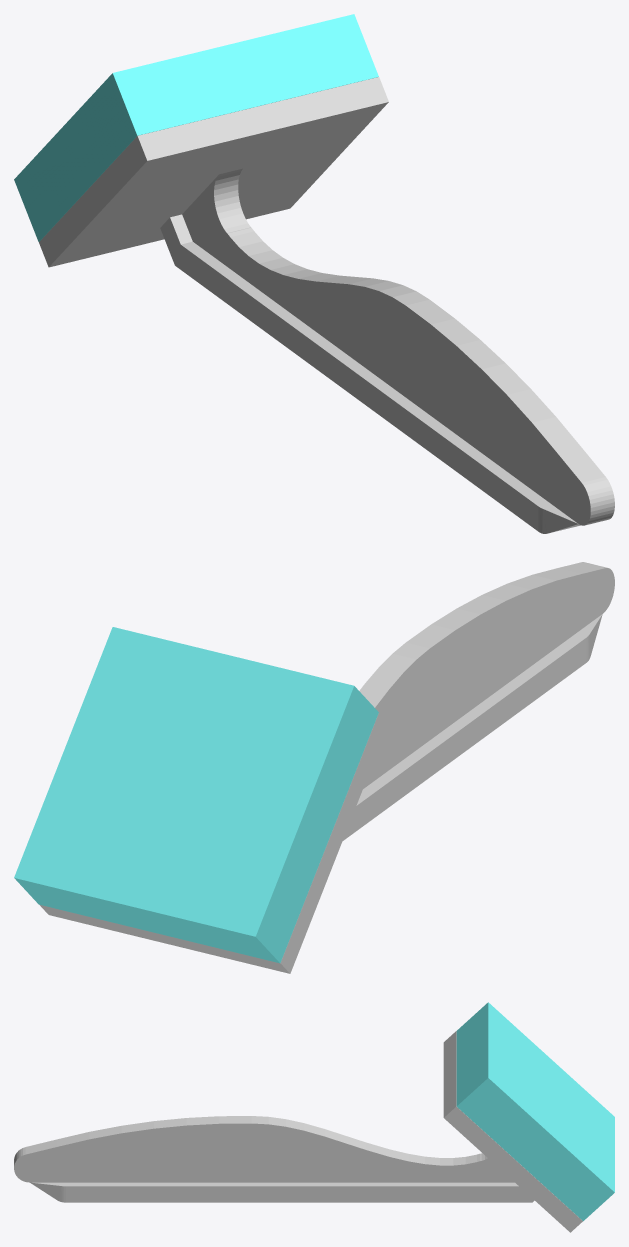
File: SpongeApplicator.fbx
The picture shows the model from 3 angles, top to bottom: view 1: azimuth 30°, elevation 25°; view 2: azimuth 150°, elevation 25°; view 3: azimuth 270°, elevation 25°; orthographic projection. The views are drawn at different scales.
Visible parts, largest first — view 1: SpongeApplicator, Sponge; view 2: Sponge, SpongeApplicator; view 3: SpongeApplicator, Sponge.
Part boxes in pixels (x1,y1,x2,y2): SpongeApplicator: (39, 77, 614, 533); Sponge: (14, 14, 378, 241); Sponge: (14, 627, 378, 963); SpongeApplicator: (39, 562, 614, 973); SpongeApplicator: (14, 1031, 582, 1232); Sponge: (456, 1002, 614, 1221).
Bounding box in the file's own units: 0.04 × 0.0382 × 0.1342.
